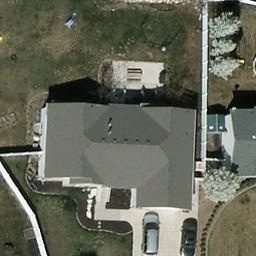car: (141, 212, 160, 255)
